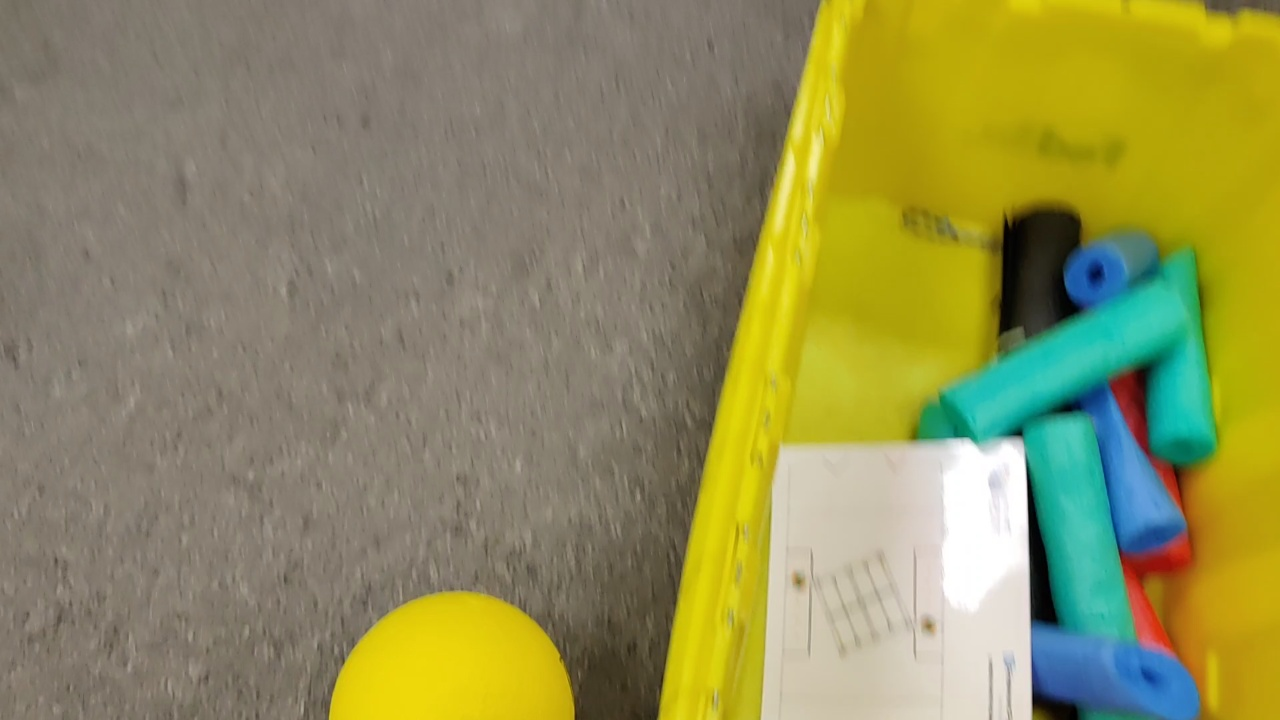Ball: (328, 589, 577, 720)
